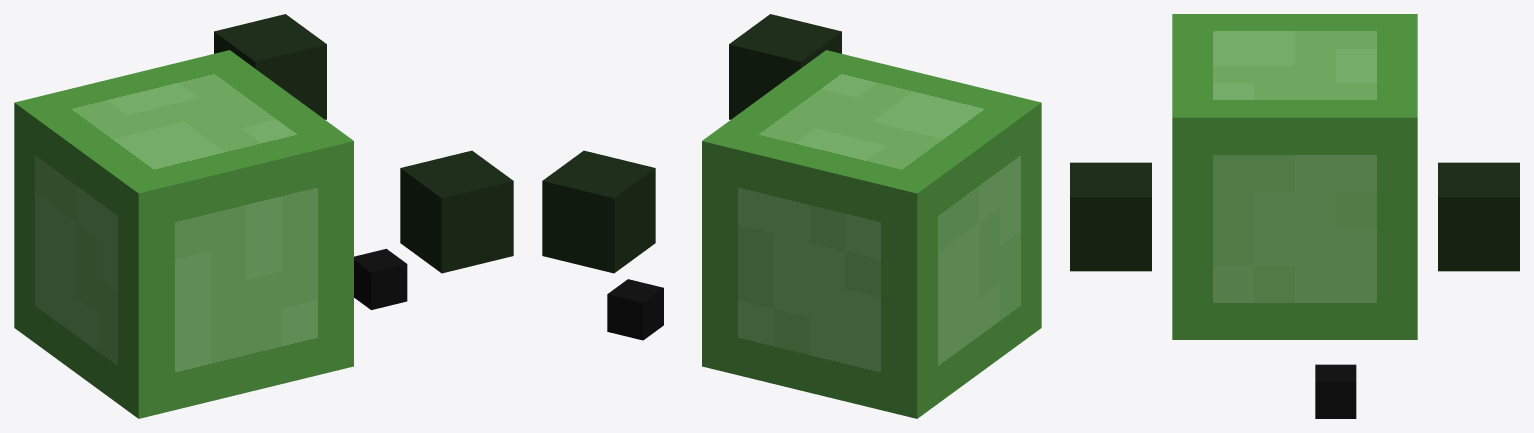
The model's file is slime6.fbx.
3 renders of one model, left to right at view 1: azimuth 30°, elevation 25°; view 2: azimuth 150°, elevation 25°; view 3: azimuth 270°, elevation 25°, orthographic.
Visible parts, largest first — view 1: Body, EyeR, EyeL, Mouth; view 2: Body, EyeL, EyeR, Mouth; view 3: Body, EyeR, EyeL, Mouth.
Boxes of the visible parts, box(x1,y1,x2,y2) form: Body: box(14, 50, 353, 418); EyeR: box(400, 150, 513, 273); EyeL: box(214, 14, 326, 119); Mouth: box(354, 248, 407, 309); Body: box(702, 50, 1041, 418); EyeL: box(542, 150, 655, 273); EyeR: box(729, 14, 841, 119); Mouth: box(607, 279, 663, 340); Body: box(1172, 14, 1417, 339); EyeR: box(1070, 162, 1151, 271); EyeL: box(1438, 162, 1519, 271); Mouth: box(1315, 364, 1356, 418).
Bounding box in the file's own units: 95 × 65 × 110.
Materials: 1 (1 with a texture image).
